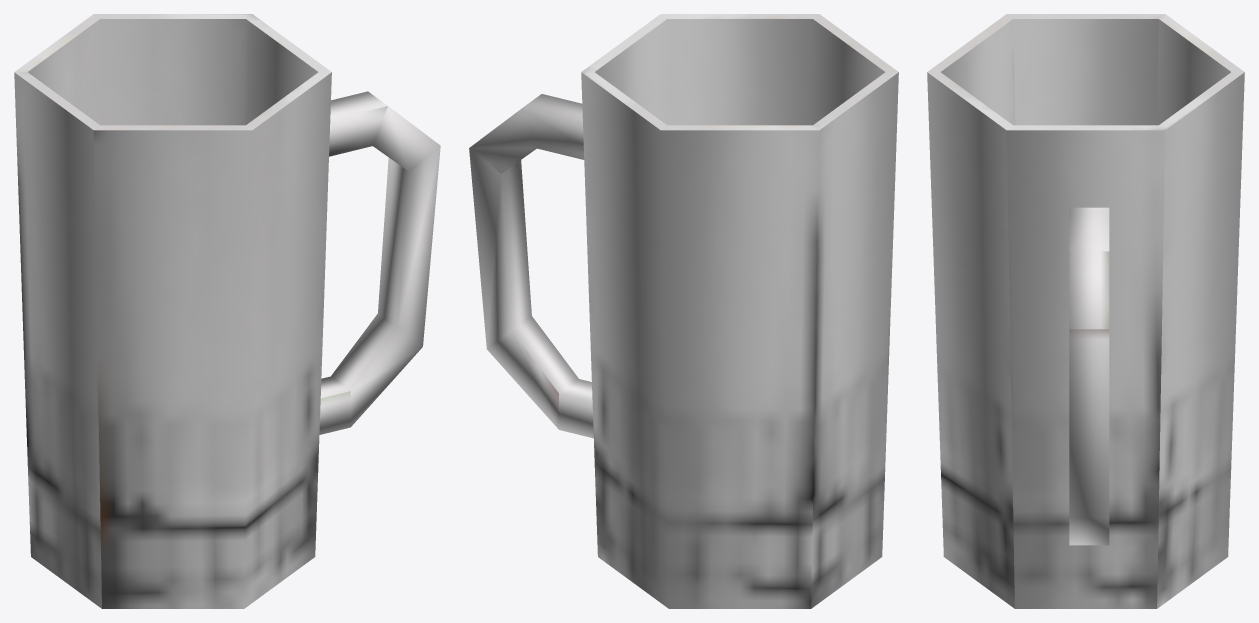
File: BeerGlassV3.fbx
3 renders of one model, left to right at view 1: azimuth 30°, elevation 25°; view 2: azimuth 150°, elevation 25°; view 3: azimuth 270°, elevation 25°, orthographic.
Visible parts, largest first — view 1: Beer&Wine.010; view 2: Beer&Wine.010; view 3: Beer&Wine.010.
Boxes of the visible parts, bbox=[...] form: Beer&Wine.010: bbox=[14, 14, 440, 608]; Beer&Wine.010: bbox=[469, 14, 898, 608]; Beer&Wine.010: bbox=[927, 14, 1244, 608].
Bounding box in the file's own units: 0.1914 × 0.2343 × 0.1392.
